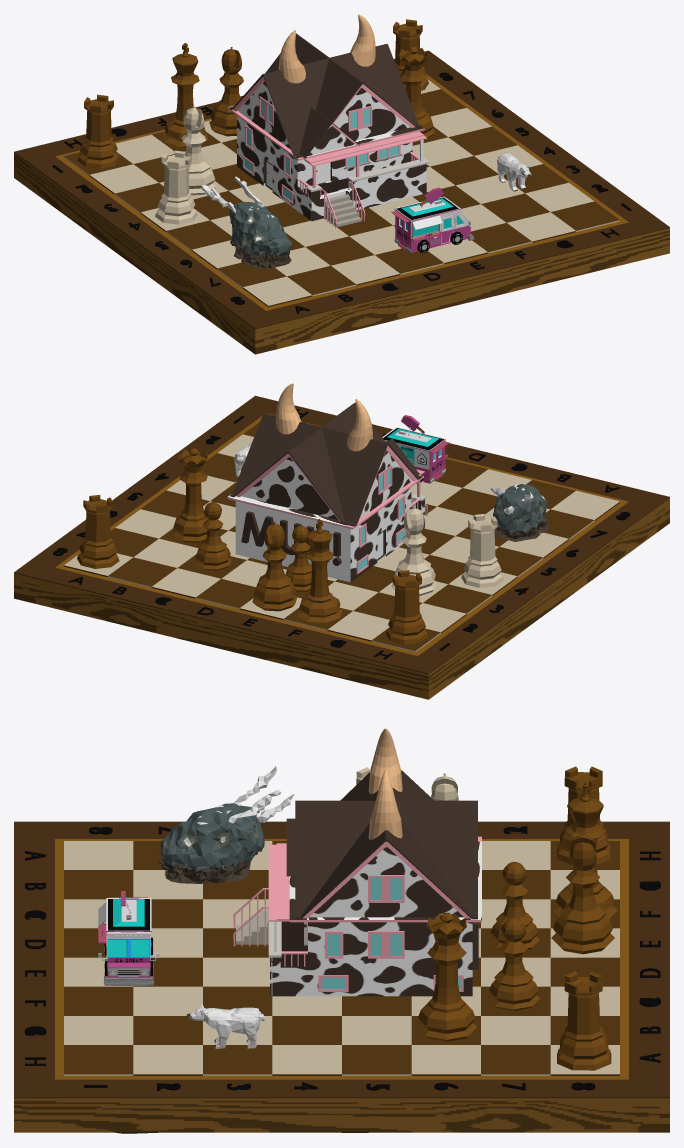
3 renders of one model, top to bottom at view 1: azimuth 30°, elevation 25°; view 2: azimuth 150°, elevation 25°; view 3: azimuth 270°, elevation 25°, orthographic. The views are drawn at different scales.
Visible parts, largest first — view 1: Cube.002, Cube.1242, OBJRANDOM_METEORITE, VEHICLES_ICE_CREAM_TRUCK, ANIMAL_OSO_POLAR; view 2: Cube.002, Cube.1242, OBJRANDOM_METEORITE, VEHICLES_ICE_CREAM_TRUCK; view 3: Cube.002, Cube.1242, OBJRANDOM_METEORITE, VEHICLES_ICE_CREAM_TRUCK, ANIMAL_OSO_POLAR.
Boxes of the visible parts, left/top/right/bottom form: Cube.002: left=14, top=19, right=669, bottom=354; Cube.1242: left=228, top=14, right=429, bottom=228; OBJRANDOM_METEORITE: left=201, top=176, right=291, bottom=268; VEHICLES_ICE_CREAM_TRUCK: left=391, top=187, right=474, bottom=253; ANIMAL_OSO_POLAR: left=497, top=153, right=531, bottom=191; Cube.002: left=14, top=395, right=669, bottom=699; Cube.1242: left=227, top=383, right=427, bottom=582; OBJRANDOM_METEORITE: left=490, top=484, right=549, bottom=541; VEHICLES_ICE_CREAM_TRUCK: left=382, top=415, right=449, bottom=483; Cube.002: left=14, top=766, right=669, bottom=1132; Cube.1242: left=233, top=728, right=481, bottom=996; OBJRANDOM_METEORITE: left=159, top=766, right=294, bottom=883; VEHICLES_ICE_CREAM_TRUCK: left=98, top=891, right=159, bottom=985; ANIMAL_OSO_POLAR: left=187, top=1005, right=264, bottom=1048.
Bounding box in the file's own units: 3981 × 1716 × 4012.
45 materials, 2 textured.
